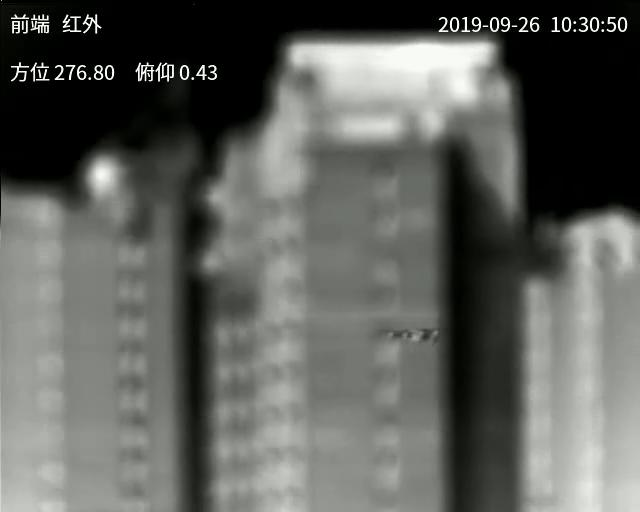uav: (391, 325, 452, 344)
